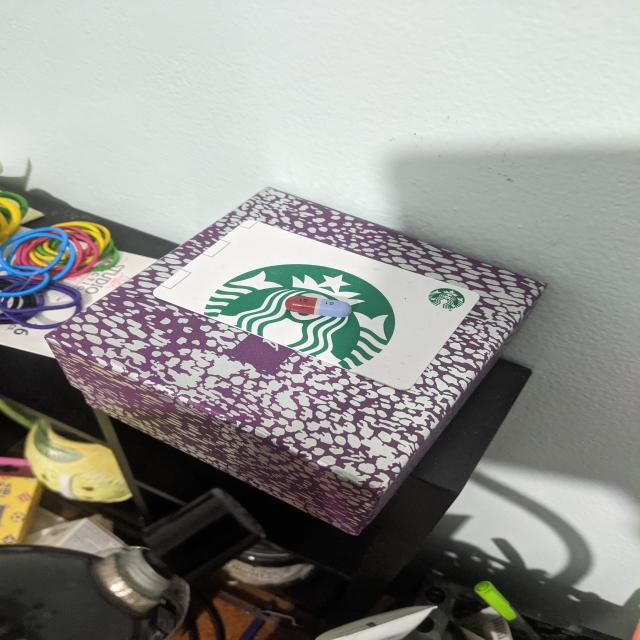non-organic waste: (284, 296, 353, 318)
